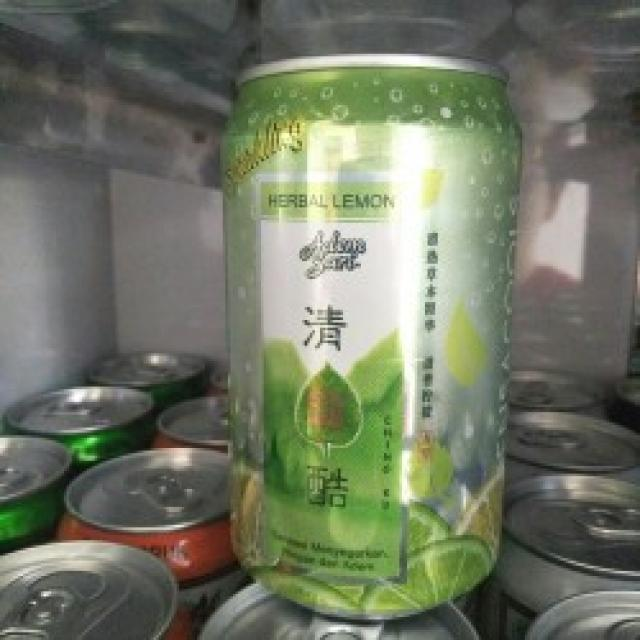ademsarikaleng: (215, 48, 522, 620)
